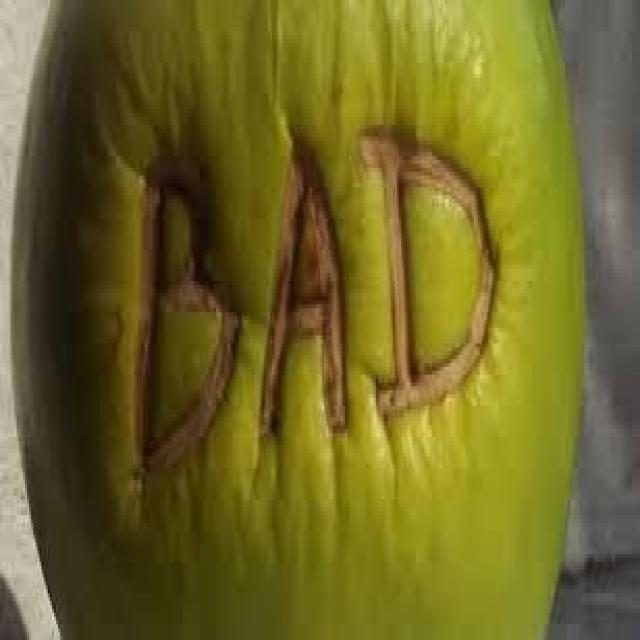maca: (8, 0, 586, 636)
